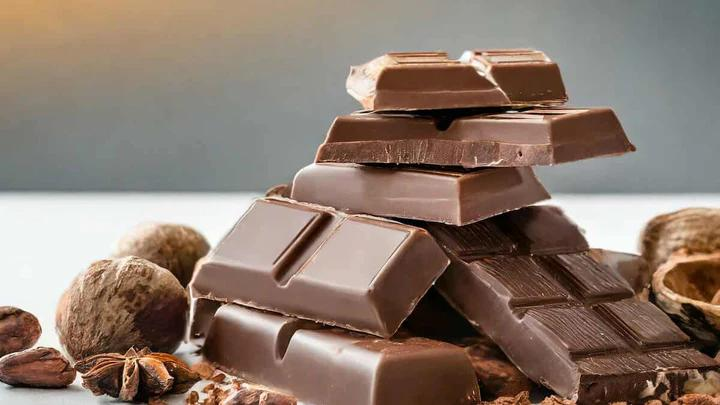chocolate: (349, 45, 562, 119)
